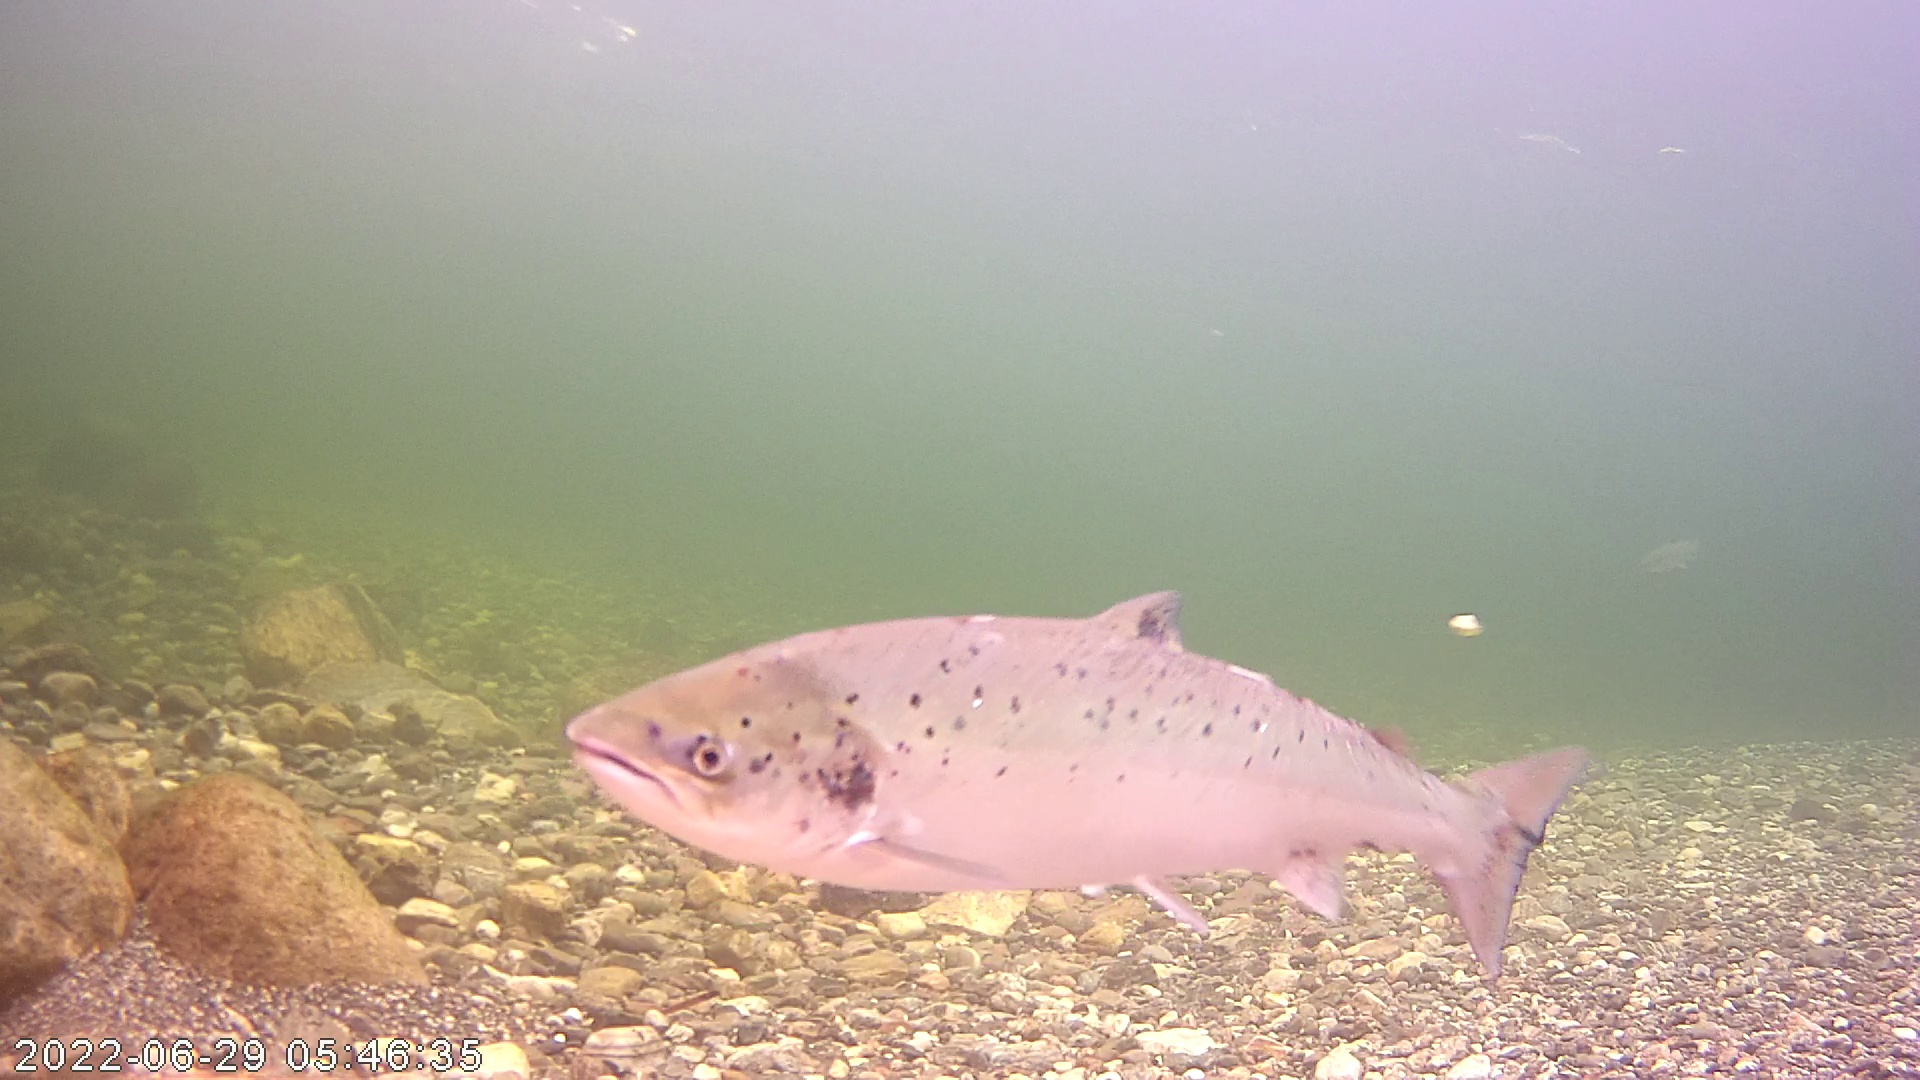salmon: (562, 458, 1582, 969)
